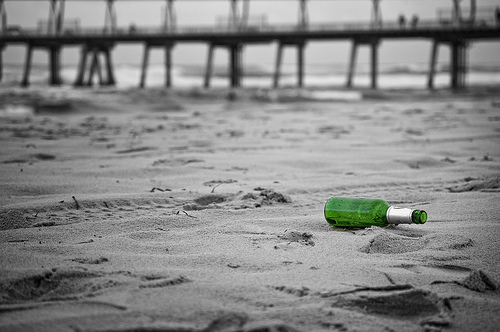litter: (324, 198, 426, 228)
